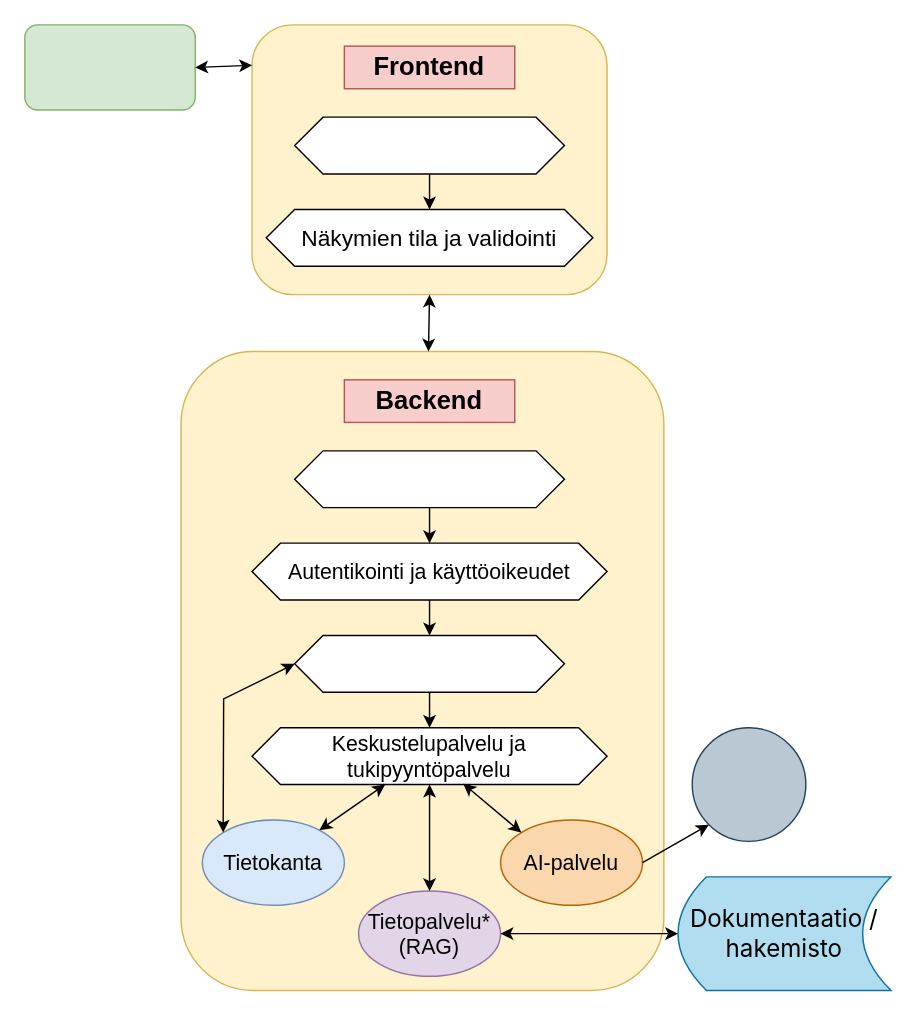
Image size: 916x1015. Some labels were removed from this diagram. The centre of each missing label's shape, as x and y in pixels:
AI model: the point at 748,783
Käyttjäjä: the point at 109,66
Liiketoimintalogiikka: the point at 428,663
REST API: the point at 428,478
Web-käyttöliittymä: the point at 428,145
